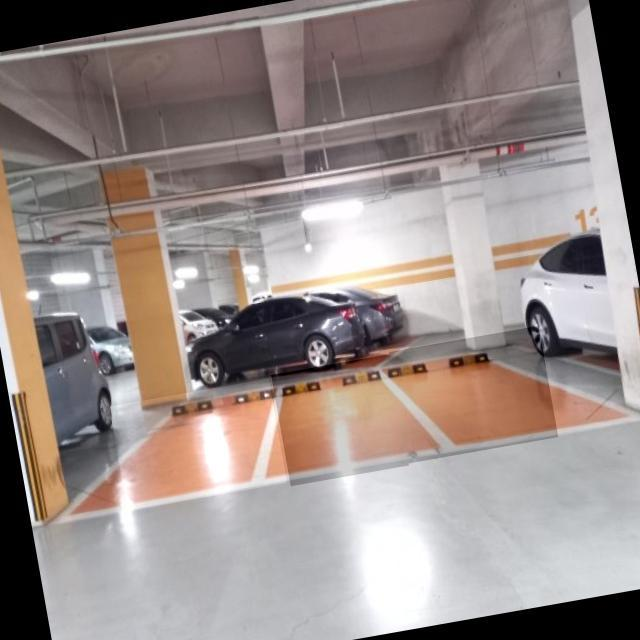empty: (109, 378, 287, 510), (389, 325, 558, 463), (271, 354, 408, 486)
